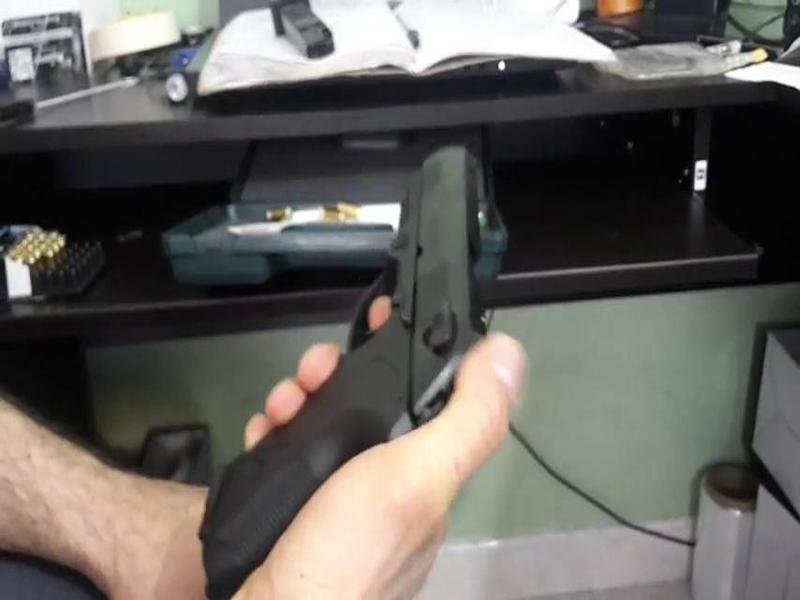Pistola: (204, 144, 504, 444)
